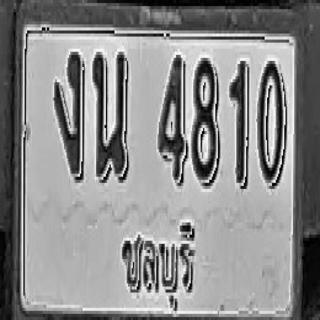A07: (54, 49, 84, 180)
A25: (92, 49, 128, 180)
N00: (257, 58, 286, 186)
N01: (229, 59, 249, 188)
N04: (158, 53, 186, 184)
N08: (191, 56, 220, 185)
P13: (116, 206, 200, 314)
